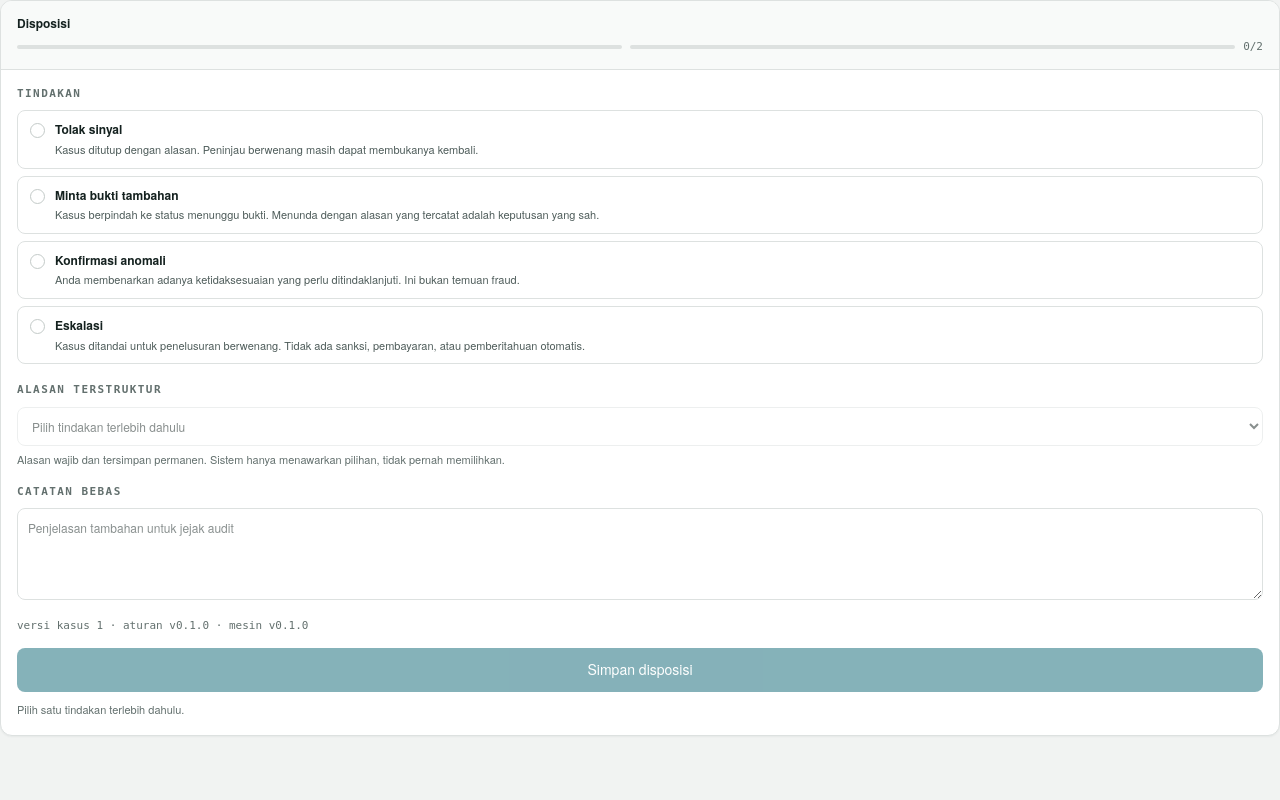
Test: save is gated on an action and a reason › stays disabled after an action alone, and names the reason as missing
Click the radio button labelled "Eskalasi". click: (38, 327)
box: [30,319,45,334]
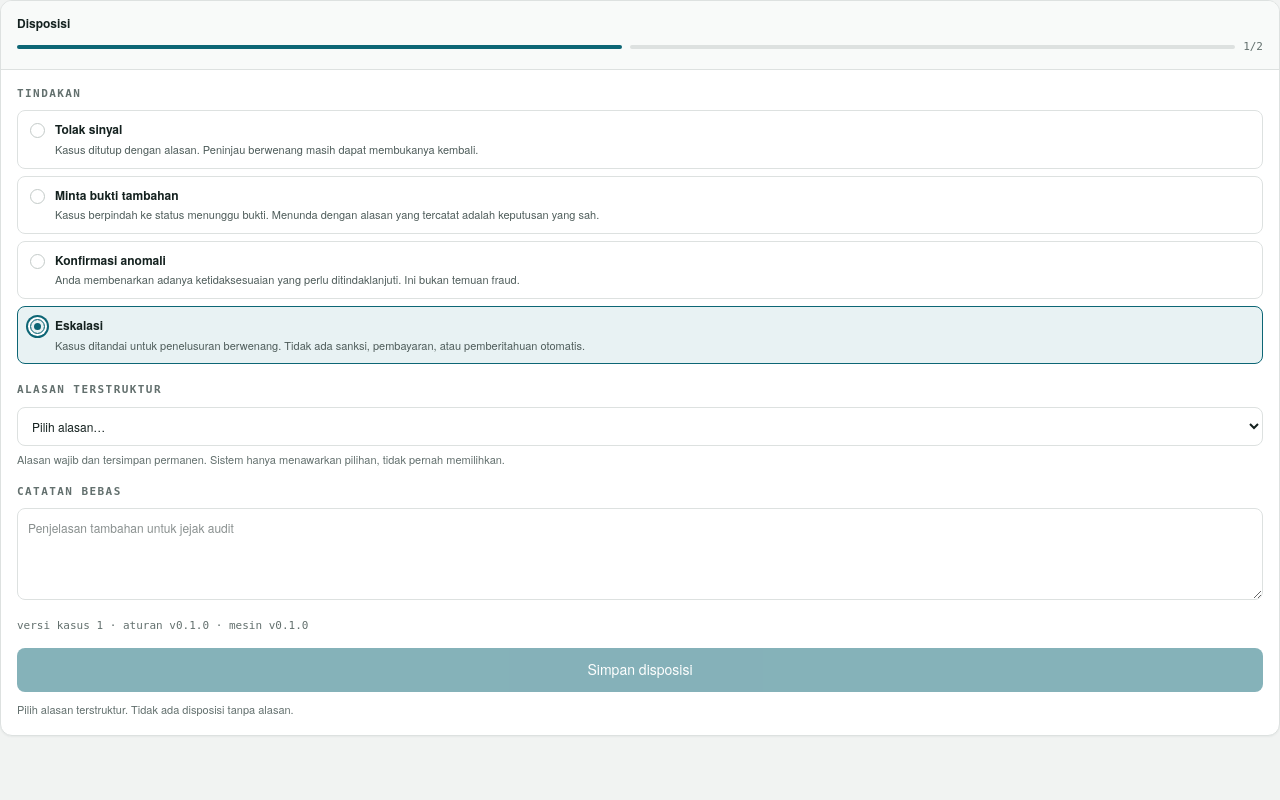
Check: the button "Simpan disposisi" is disabled, box [17,648,1263,692]
Check: the text "Pilih alasan terstruktur. Tidak ada disposisi tanpa alasan." is shown, box [17,701,294,717]
